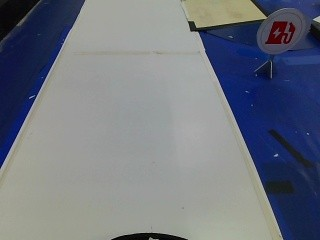battery: (252, 4, 305, 56)
